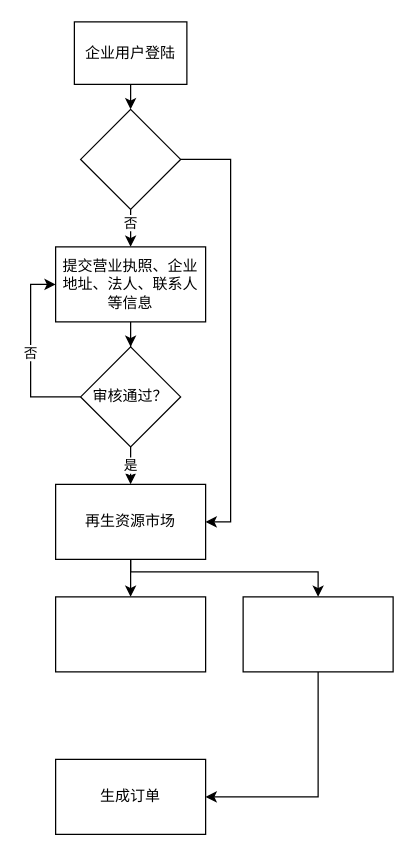
This 415x856 diagram has some shape labels left out. The shapes that lost their labels are listed below. From the top down, each one's centre as x and y in pixels, then its label:
At point (130, 158): "是否注册？".
At point (130, 634): "发布采购/销售信息".
At point (317, 634): "下采购/销售订单".
